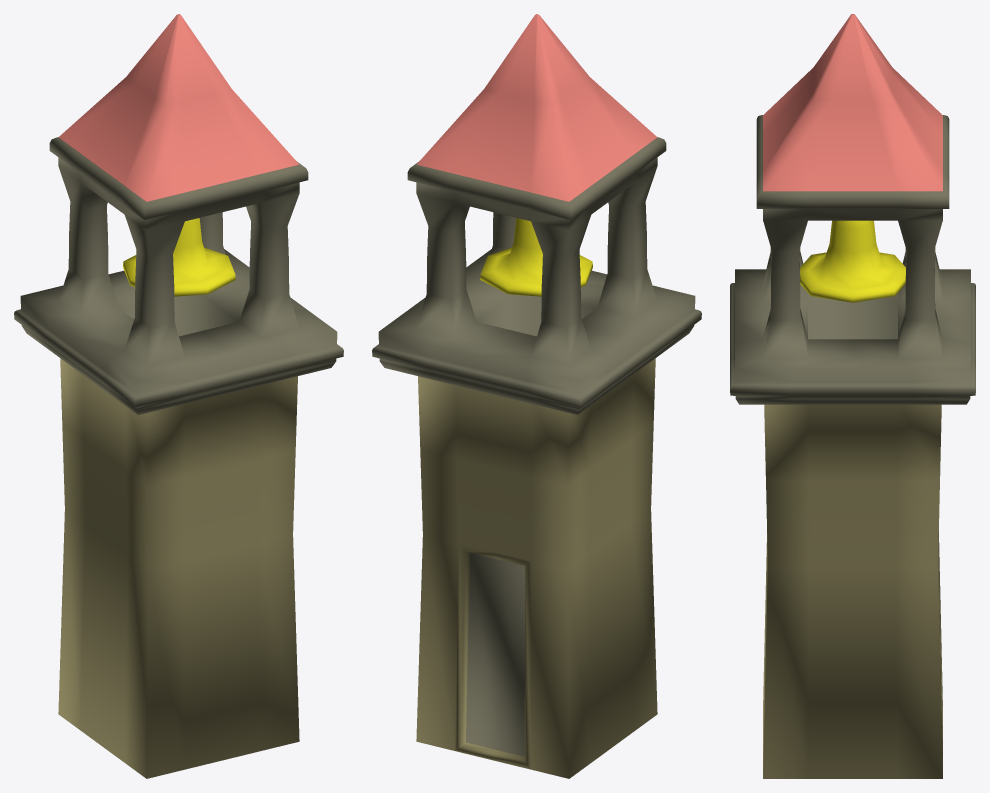
Rendered from Bell.fbx.
The picture shows the model from 3 angles, left to right: view 1: azimuth 30°, elevation 25°; view 2: azimuth 150°, elevation 25°; view 3: azimuth 270°, elevation 25°; orthographic projection.
Parts seen in each view (by area): view 1: Cube, Bell; view 2: Cube, Bell; view 3: Cube, Bell.
Boxes of the visible parts, <box> form: Cube: <box>14,14,343,778</box>; Bell: <box>123,218,235,296</box>; Cube: <box>372,14,701,778</box>; Bell: <box>480,218,592,296</box>; Cube: <box>730,14,975,778</box>; Bell: <box>800,220,905,302</box>.
Size of the model in its own units: 274 by 892 by 274.
